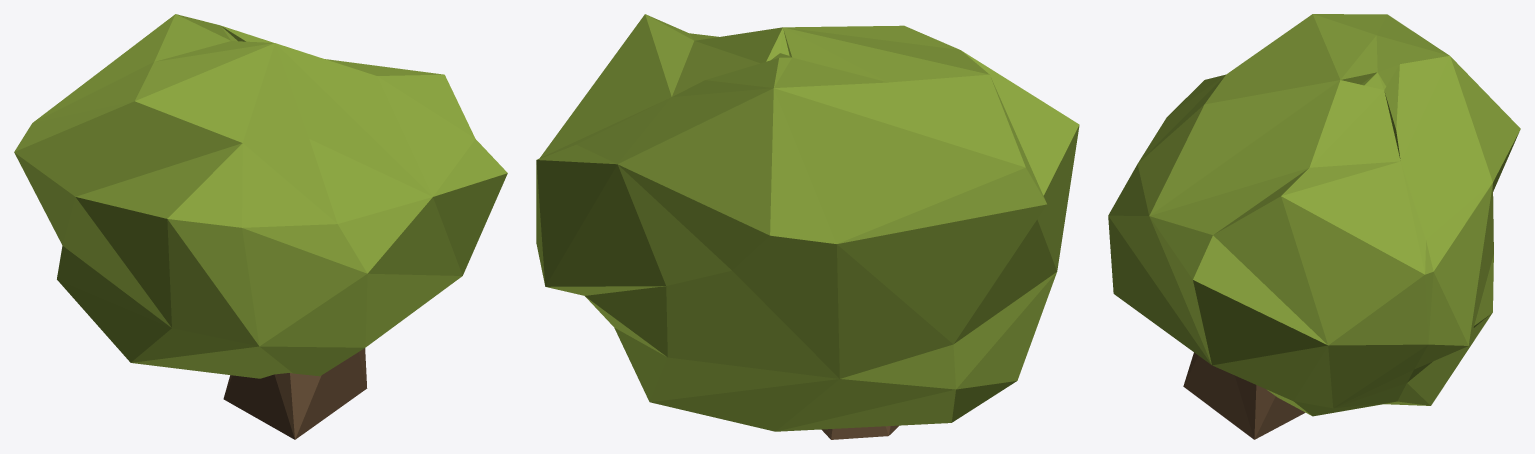
The model's file is Shrub1.fbx.
3 views of the same model, side by side, from view 1: azimuth 30°, elevation 25°; view 2: azimuth 150°, elevation 25°; view 3: azimuth 270°, elevation 25° (orthographic). The views are drawn at different scales.
Parts seen in each view (by area): view 1: Shrub1; view 2: Shrub1; view 3: Shrub1.
Boxes of the visible parts, x1,y1,x2,y2 form: Shrub1: [14, 14, 507, 439]; Shrub1: [536, 14, 1079, 439]; Shrub1: [1108, 14, 1520, 439].
Bounding box in the file's own units: 83.8 × 64.23 × 71.1.
